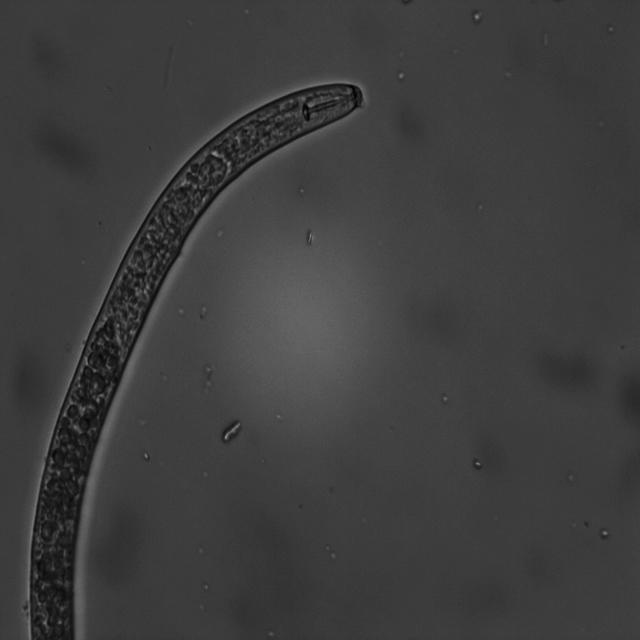Helicotylenchus: (28, 72, 367, 640)
